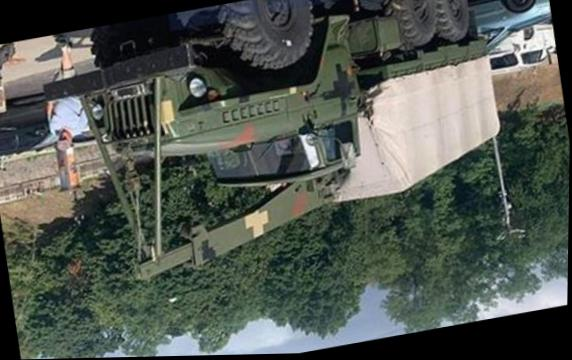truck: (54, 0, 516, 298)
